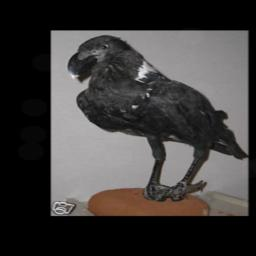Crow: (64, 34, 246, 202)
